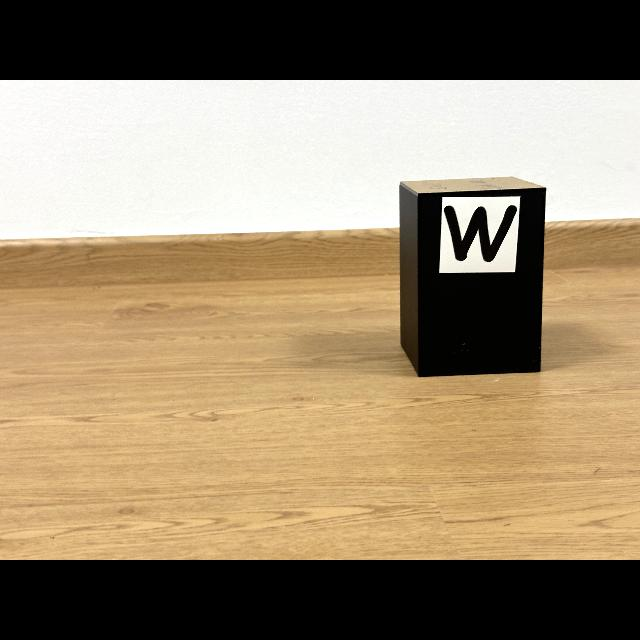W: (444, 205, 518, 262)
